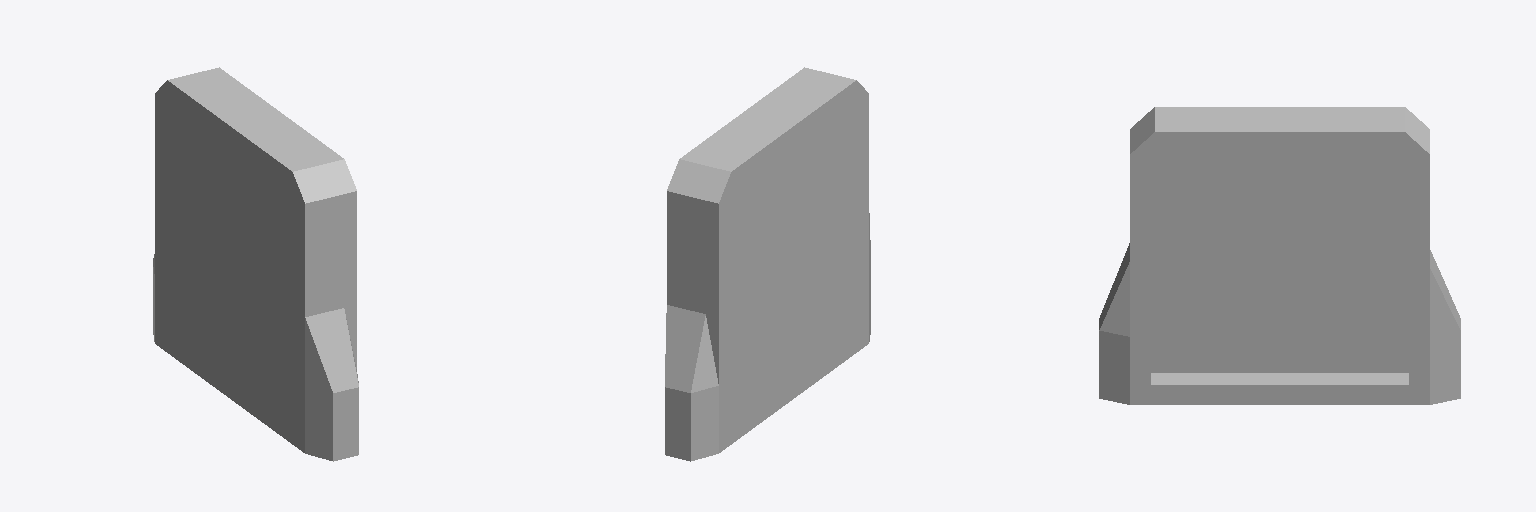
File: monitor.obj
The picture shows the model from 3 angles: view 1: azimuth 30°, elevation 25°; view 2: azimuth 150°, elevation 25°; view 3: azimuth 270°, elevation 25°; orthographic projection.
Parts seen in each view (by area): view 1: Cube.009_Cube.004; view 2: Cube.009_Cube.004; view 3: Cube.009_Cube.004.
Boxes of the visible parts, box(x1,y1,x2,y2) form: Cube.009_Cube.004: box(153, 67, 358, 461); Cube.009_Cube.004: box(665, 67, 870, 461); Cube.009_Cube.004: box(1099, 107, 1460, 404).
Bounding box in the file's own units: 0.2 × 1 × 1.2.